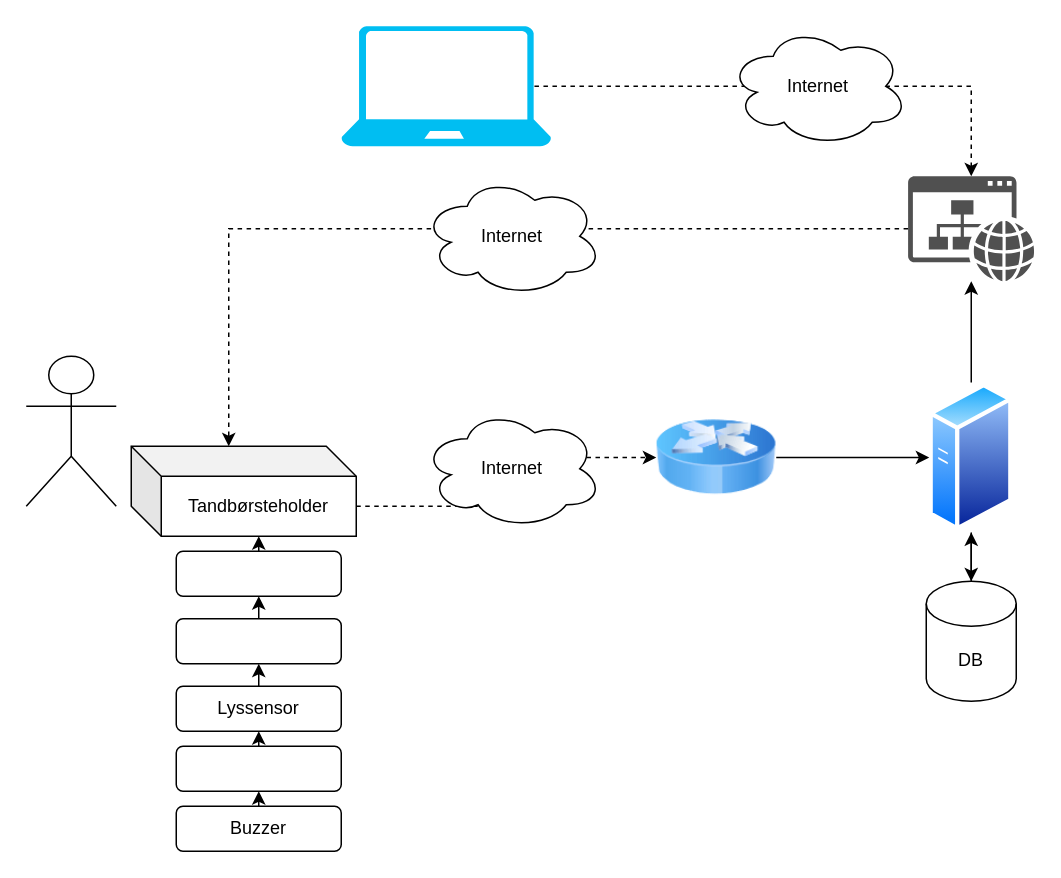
This 1061x878 diagram has some shape labels left out. The centre of each missing label's shape, as x and y in pixels:
Actor: (x=70, y=430)
Kamera: (x=258, y=640)
LED: (x=258, y=768)
Raspberry Pi / Microcontroller: (x=258, y=573)
